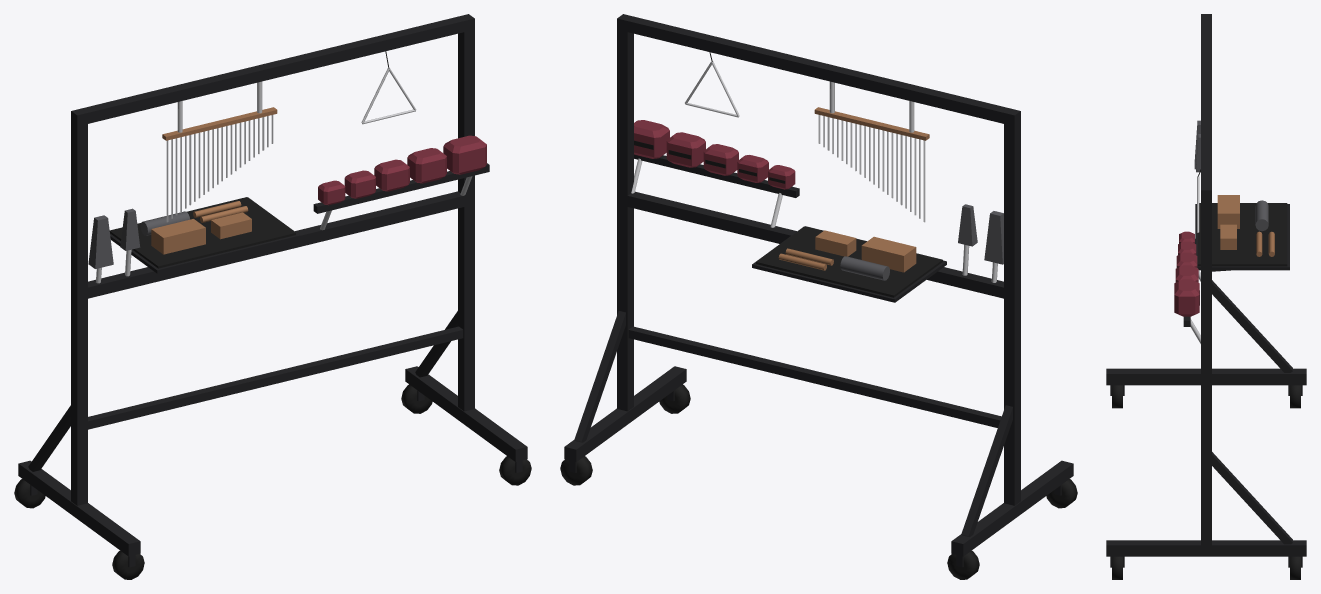
File: aux-rack-accessories.glb
3 renders of one model, left to right at view 1: azimuth 30°, elevation 25°; view 2: azimuth 150°, elevation 25°; view 3: azimuth 270°, elevation 25°, orthographic. The views are drawn at different scales.
Visible parts, largest first — view 1: frame, rubber, shell, metal, wood, panel; view 2: frame, rubber, metal, shell, wood, panel; view 3: frame, rubber, shell, wood, panel, metal.
Part boxes in pixels (bbox=[...]): frame: bbox=[18, 14, 527, 567]; rubber: bbox=[14, 51, 531, 579]; shell: bbox=[318, 135, 486, 205]; metal: bbox=[96, 68, 472, 283]; wood: bbox=[151, 107, 277, 254]; panel: bbox=[88, 208, 189, 268]; frame: bbox=[564, 14, 1073, 567]; rubber: bbox=[560, 52, 1077, 579]; metal: bbox=[631, 61, 997, 282]; shell: bbox=[634, 120, 795, 189]; wood: bbox=[778, 107, 929, 272]; panel: bbox=[840, 204, 1003, 280]; frame: bbox=[1106, 14, 1306, 567]; rubber: bbox=[1112, 169, 1300, 579]; shell: bbox=[1174, 231, 1199, 316]; wood: bbox=[1217, 195, 1274, 256]; panel: bbox=[1194, 120, 1268, 231]; metal: bbox=[1190, 176, 1200, 343].
Size of the model in its own units: 1.56 by 1.55 by 0.72.
